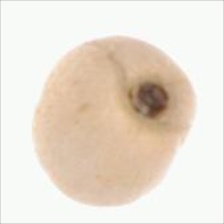L3: (120, 73, 180, 128)
L4: (31, 35, 198, 207)
